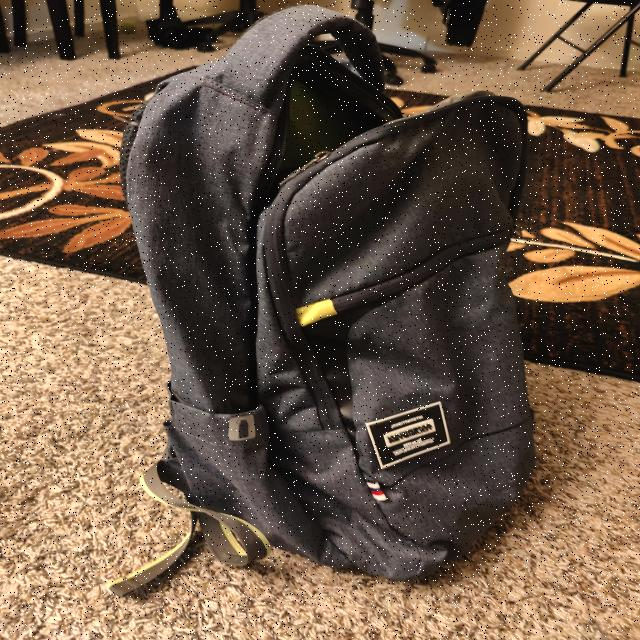bag: (138, 12, 548, 586)
